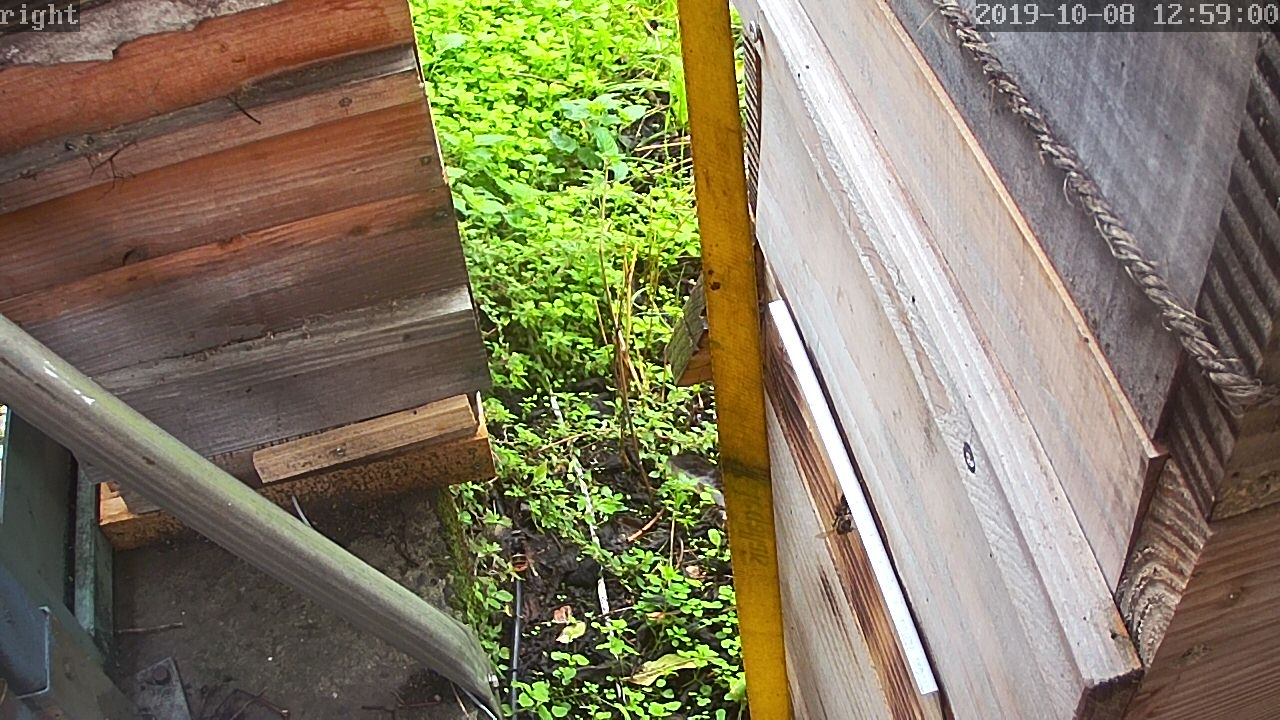bee: (825, 495, 861, 540)
hornet: (503, 523, 539, 585)
